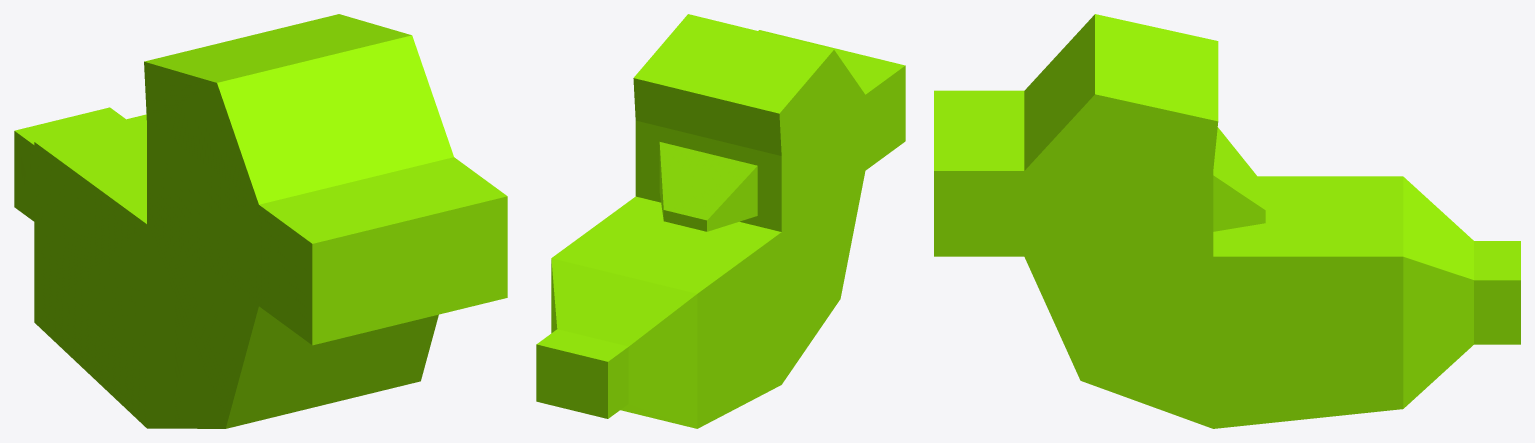
File: torikariB.FBX
3 renders of one model, left to right at view 1: azimuth 30°, elevation 25°; view 2: azimuth 150°, elevation 25°; view 3: azimuth 270°, elevation 25°, orthographic. The views are drawn at different scales.
Visible parts, largest first — view 1: Box001; view 2: Box001; view 3: Box001.
Boxes of the visible parts, left/top/right/bottom form: Box001: left=14, top=14, right=507, bottom=428; Box001: left=536, top=14, right=905, bottom=428; Box001: left=934, top=14, right=1520, bottom=428.
Bounding box in the file's own units: 20 × 61.75 × 38.86.
Materials: 1 (1 with a texture image).
